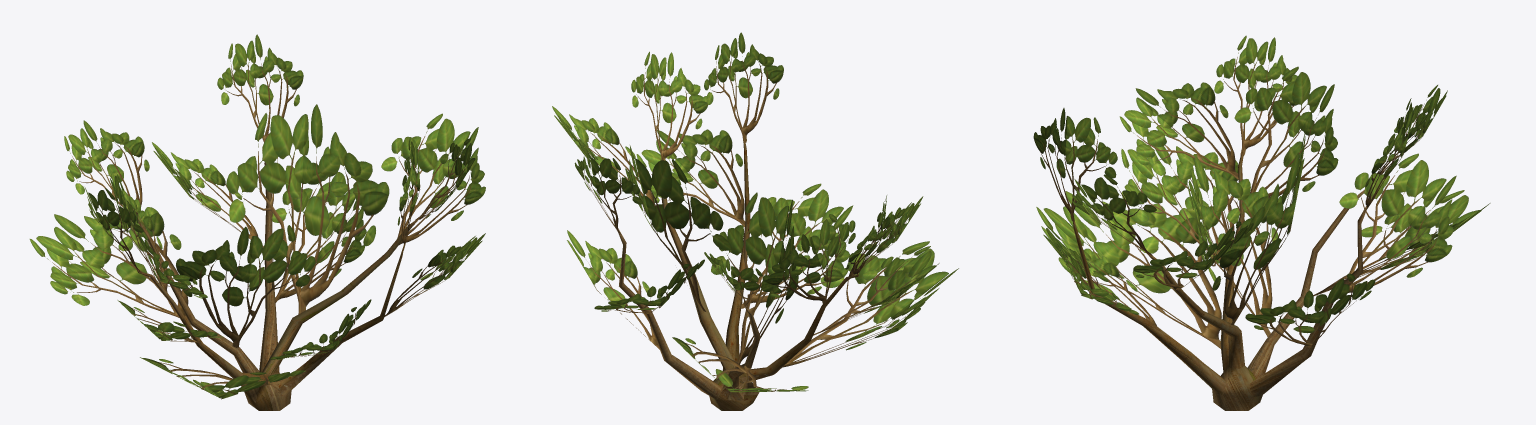
File: shrub2.obj
The picture shows the model from 3 angles, left to right: view 1: azimuth 30°, elevation 25°; view 2: azimuth 150°, elevation 25°; view 3: azimuth 270°, elevation 25°; orthographic projection. The views are drawn at different scales.
Parts seen in each view (by area): view 1: Plane.010_Plane, Circle, Plane.016_Plane, Plane.011_Plane.001, Plane.009_Plane, Plane.005_Plane, Plane.000_Plane, Plane.004_Plane, Plane.013_Plane, Plane.014_Plane.001, Plane.008_Plane, Plane.002_Plane (+6 smaller); view 2: Circle, Plane.014_Plane.001, Plane.011_Plane.001, Plane.010_Plane, Plane.008_Plane, Plane.012_Plane.001, Plane.006_Plane, Plane.007_Plane, Plane.002_Plane, Plane.015_Plane.001, Plane.000_Plane, Plane.005_Plane (+6 smaller); view 3: Circle, Plane.014_Plane.001, Plane.013_Plane, Plane.002_Plane, Plane.003_Plane, Plane.011_Plane.001, Plane.010_Plane, Plane.015_Plane.001, Plane.007_Plane, Plane.000_Plane, Plane.001_Plane, Plane.006_Plane (+6 smaller).
Boxes of the visible parts, left/top/right/bottom form: Plane.010_Plane: left=226, top=104, right=389, bottom=314; Circle: left=136, top=129, right=422, bottom=410; Plane.016_Plane: left=29, top=207, right=191, bottom=324; Plane.011_Plane.001: left=176, top=225, right=315, bottom=347; Plane.009_Plane: left=381, top=113, right=485, bottom=249; Plane.005_Plane: left=217, top=34, right=303, bottom=142; Plane.000_Plane: left=272, top=172, right=366, bottom=302; Plane.004_Plane: left=64, top=120, right=149, bottom=223; Plane.013_Plane: left=152, top=142, right=263, bottom=247; Plane.014_Plane.001: left=140, top=357, right=305, bottom=399; Plane.008_Plane: left=384, top=233, right=485, bottom=316; Plane.002_Plane: left=110, top=170, right=167, bottom=293; Circle: left=612, top=131, right=858, bottom=410; Plane.014_Plane.001: left=782, top=241, right=958, bottom=367; Plane.011_Plane.001: left=711, top=192, right=798, bottom=367; Plane.010_Plane: left=624, top=145, right=731, bottom=311; Plane.008_Plane: left=636, top=129, right=745, bottom=227; Plane.012_Plane.001: left=741, top=183, right=853, bottom=308; Plane.006_Plane: left=631, top=51, right=707, bottom=160; Plane.007_Plane: left=704, top=32, right=783, bottom=142; Plane.002_Plane: left=762, top=214, right=855, bottom=304; Plane.015_Plane.001: left=813, top=246, right=939, bottom=335; Plane.000_Plane: left=567, top=230, right=659, bottom=349; Plane.005_Plane: left=574, top=150, right=642, bottom=234; Circle: left=1073, top=146, right=1372, bottom=410; Plane.014_Plane.001: left=1036, top=191, right=1221, bottom=348; Plane.013_Plane: left=1337, top=153, right=1456, bottom=299; Plane.002_Plane: left=1234, top=66, right=1338, bottom=198; Plane.003_Plane: left=1119, top=82, right=1238, bottom=179; Plane.011_Plane.001: left=1187, top=155, right=1278, bottom=337; Plane.010_Plane: left=1212, top=128, right=1306, bottom=325; Plane.015_Plane.001: left=1121, top=146, right=1238, bottom=269; Plane.007_Plane: left=1033, top=108, right=1117, bottom=221; Plane.000_Plane: left=1245, top=273, right=1375, bottom=347; Plane.001_Plane: left=1214, top=35, right=1297, bottom=155; Plane.006_Plane: left=1072, top=174, right=1156, bottom=255.
Size of the model in its own units: 21.68 by 16.7 by 21.57.
